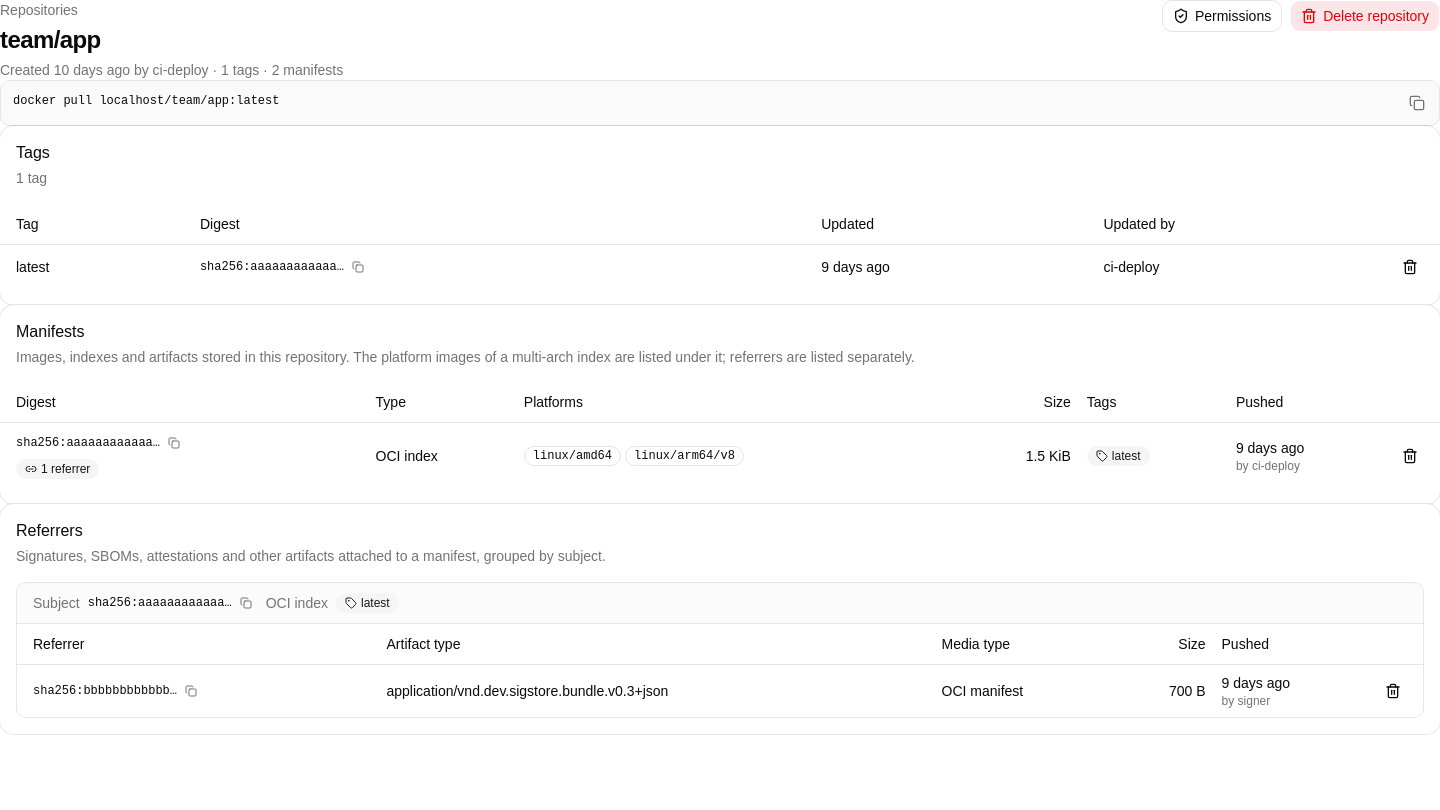
Test: RepositoryDetailPage › deletes a tag after confirmation
What coordinates should you click on to do the following:
click the button named "Delete tag latest"
I would click on:
 (1410, 266)
Its box is top-left (1396, 252), bottom-right (1424, 280).
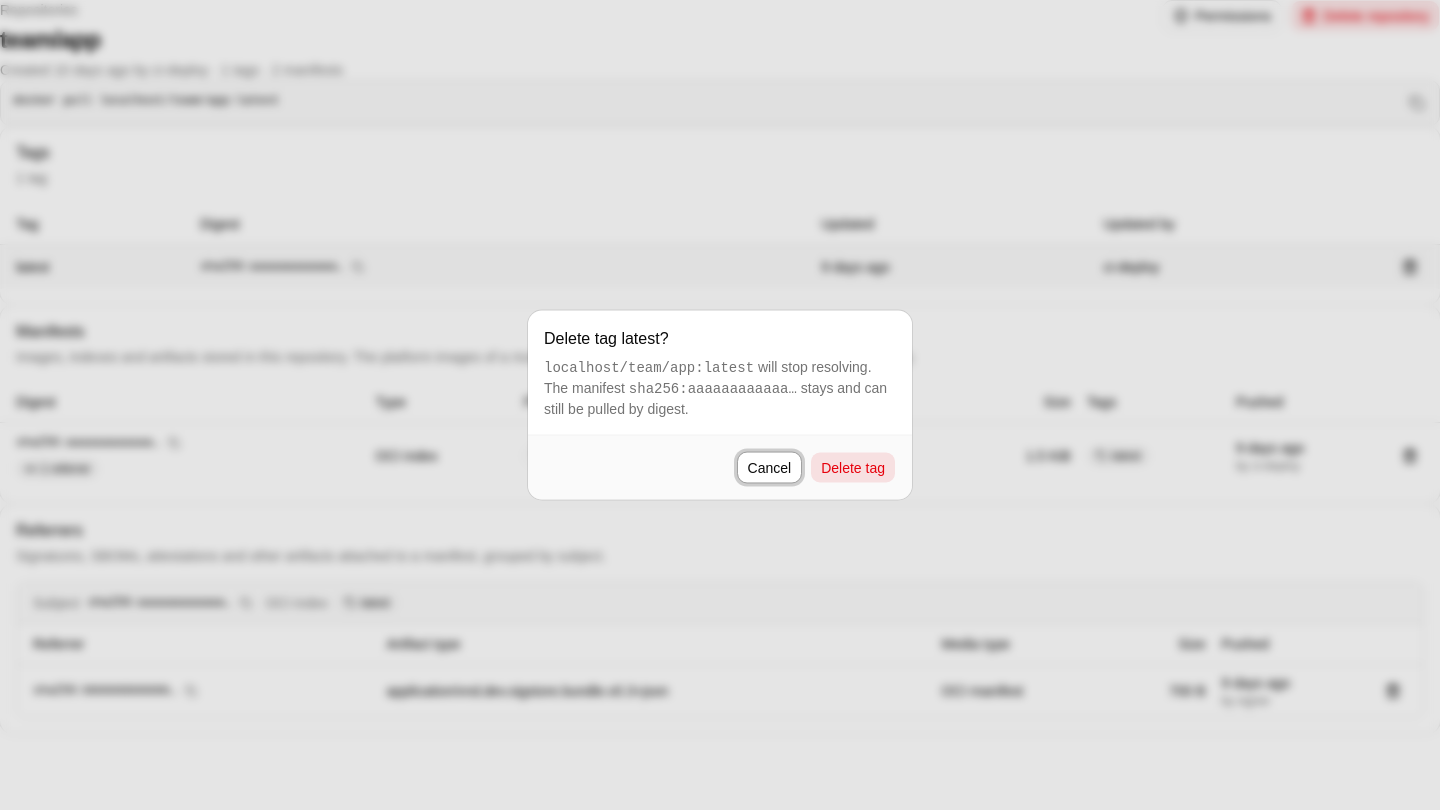
What coordinates should you click on to do the following:
click the button "Delete tag"
I would click on:
 (853, 468)
Its box is top-left (810, 452), bottom-right (896, 484).
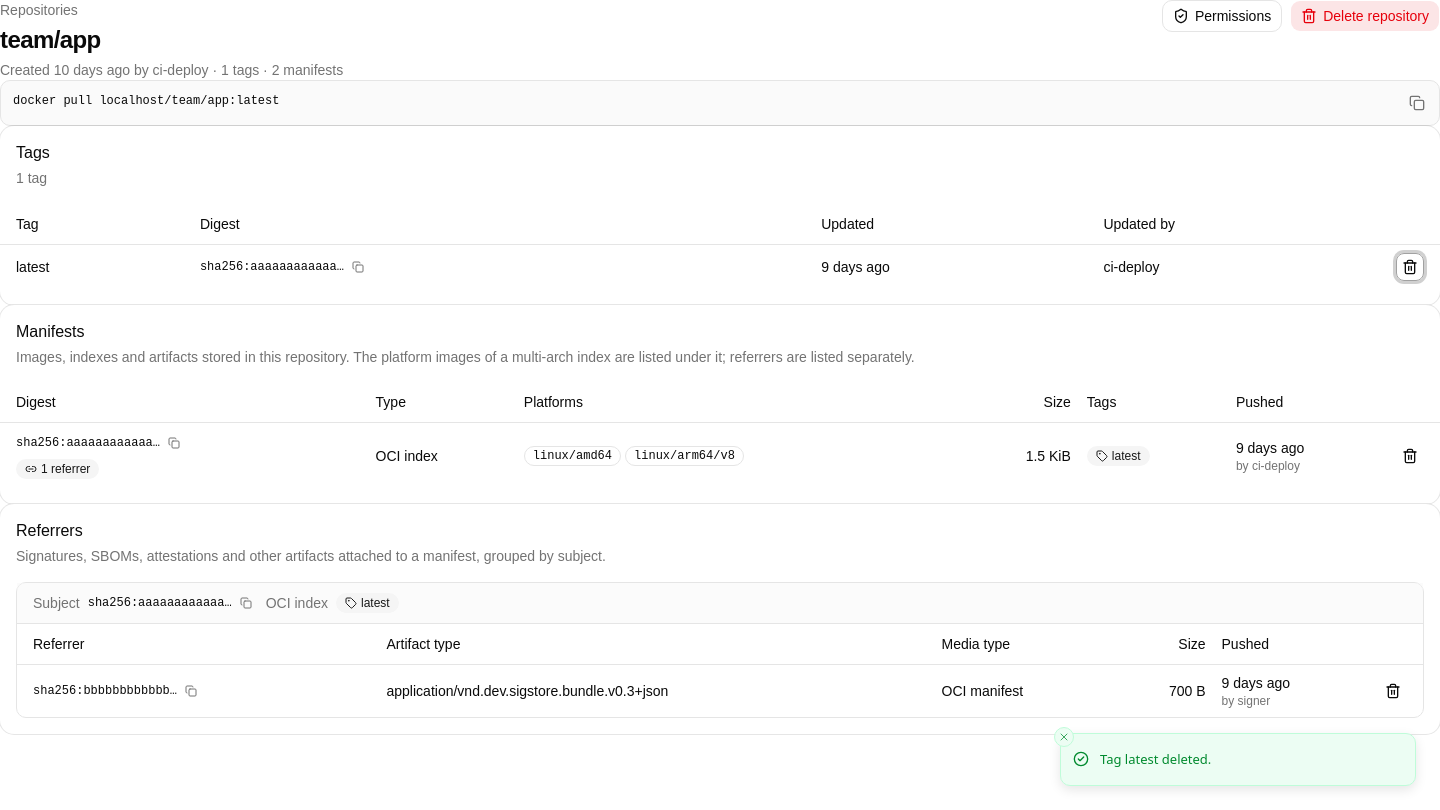
expect the dialog is gone: met
